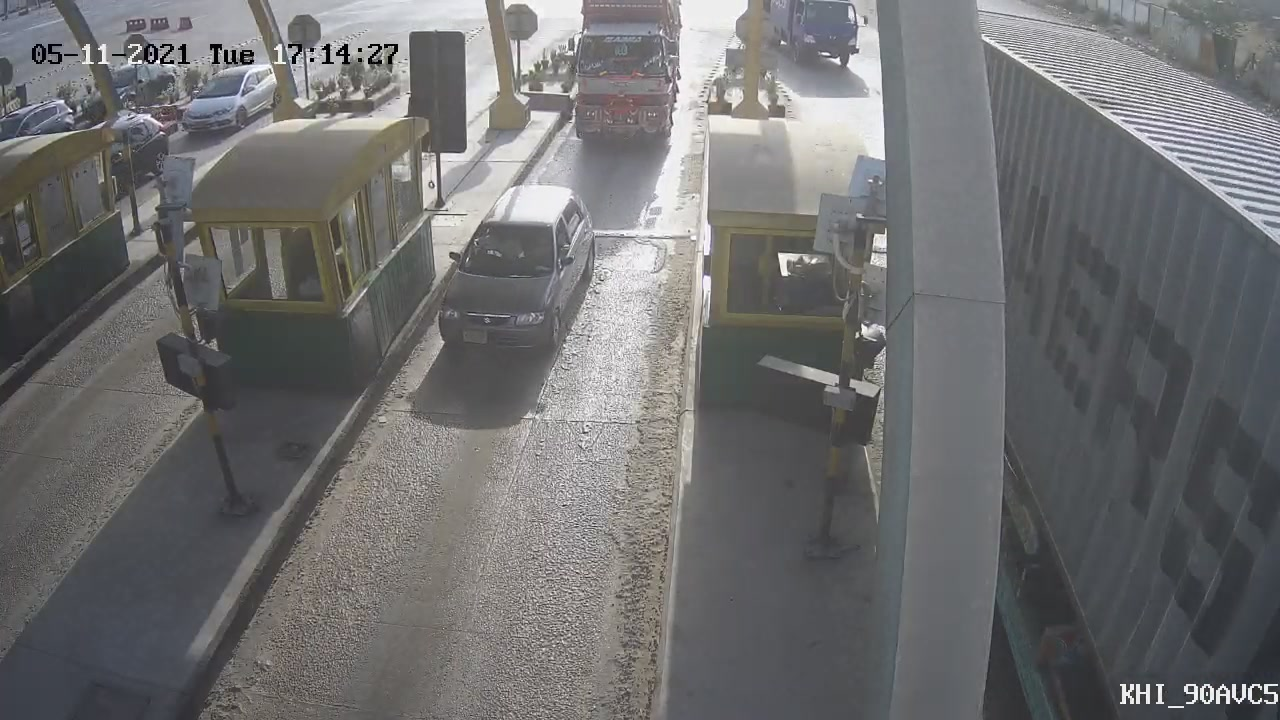F1: (416, 170, 616, 379)
